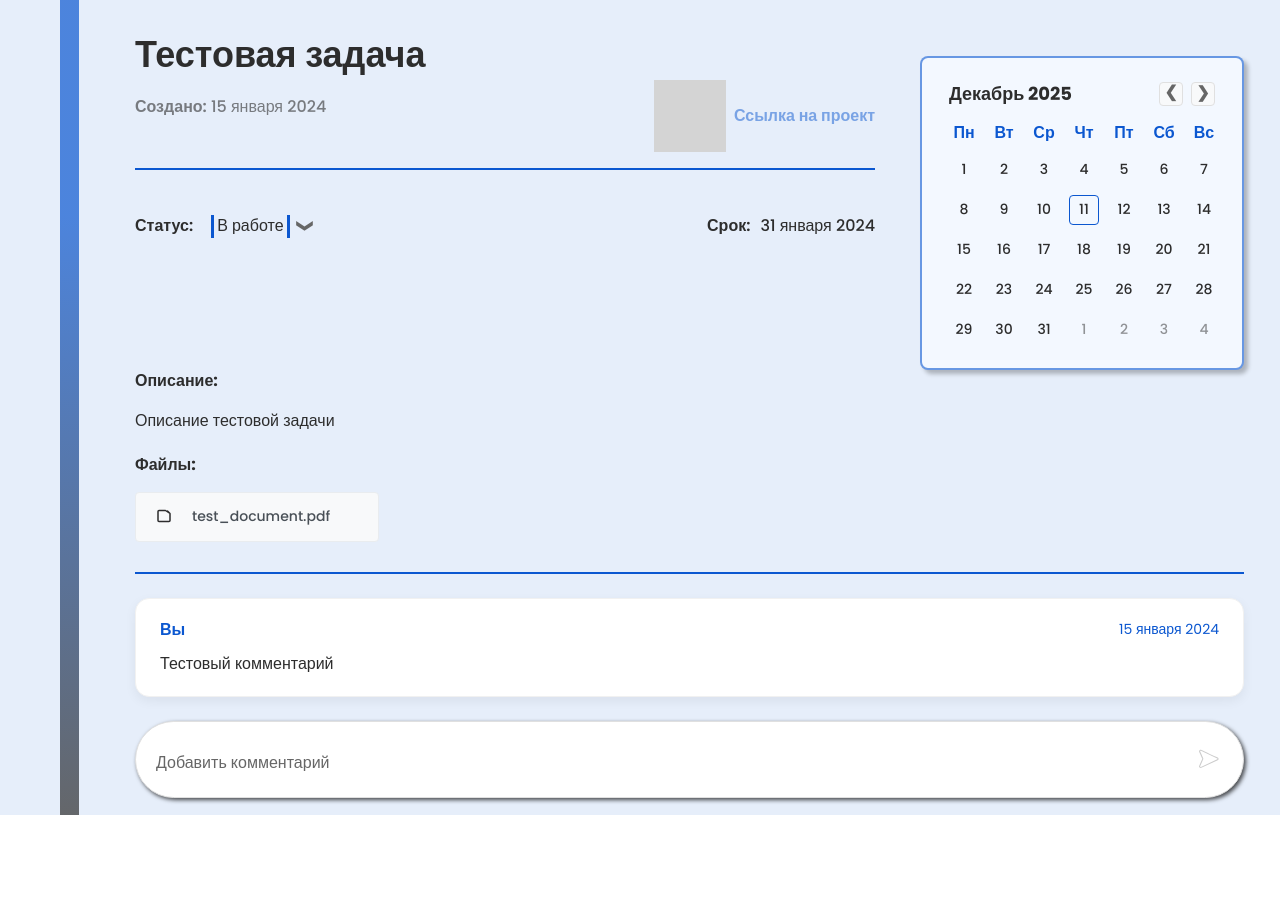
TaskInfo Component › UI interactions › should handle status dropdown toggle
Click the element with test id "toggle-dropdown-btn" at (261, 227), box [203,211,319,242]
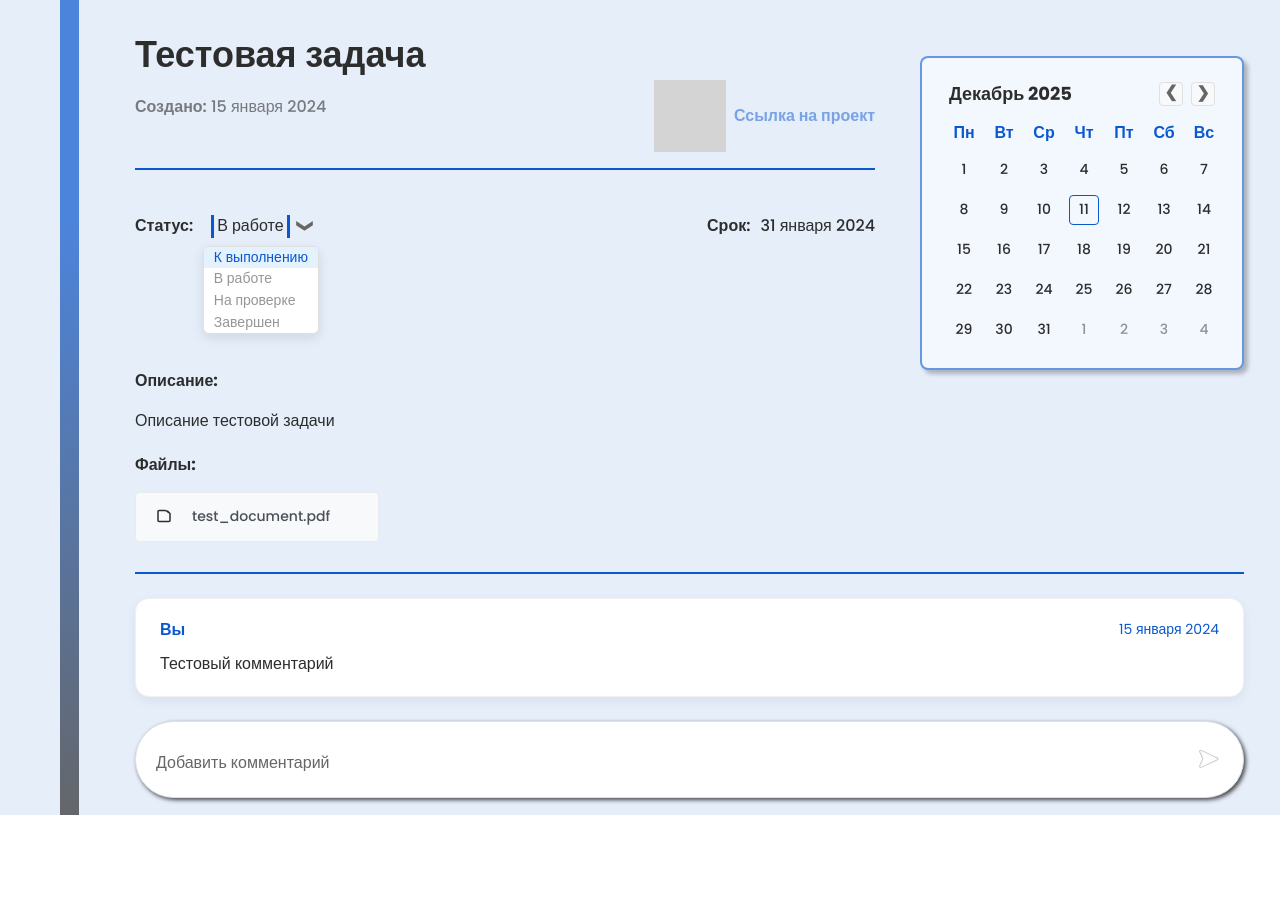
Check: the element with test id "status-dropdown" that starts with "К выполнению" is shown, box [203,246,319,334]
Check: the number of elements with test id "status-change-btn" is 4, box [204,247,318,268]; [214,268,272,288]; [214,290,295,310]; [214,312,280,332]
Click the element with test id "toggle-dropdown-btn" at (261, 227), box [203,211,319,242]
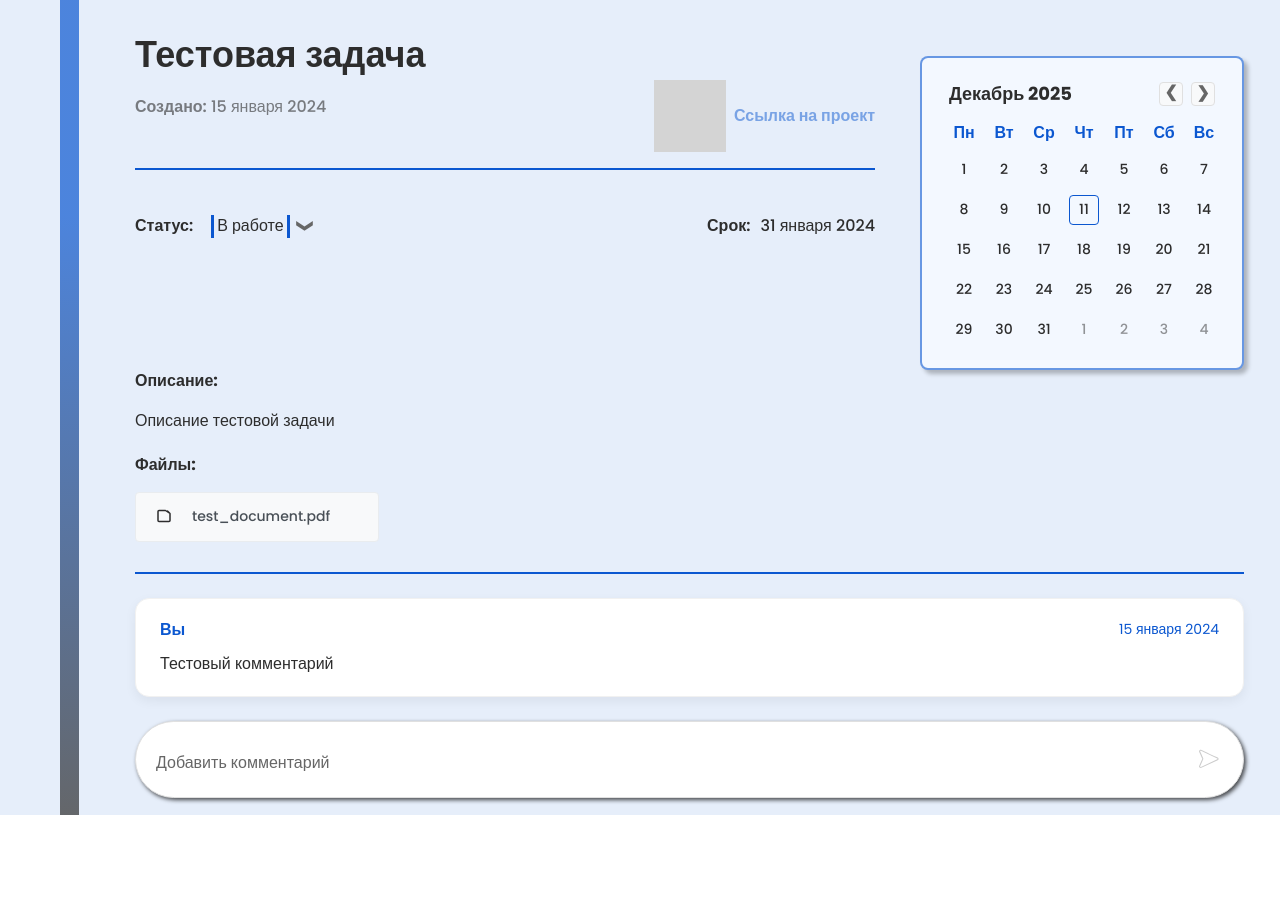
Check: the text "К выполнению В работе На проверке Завершен" is gone
